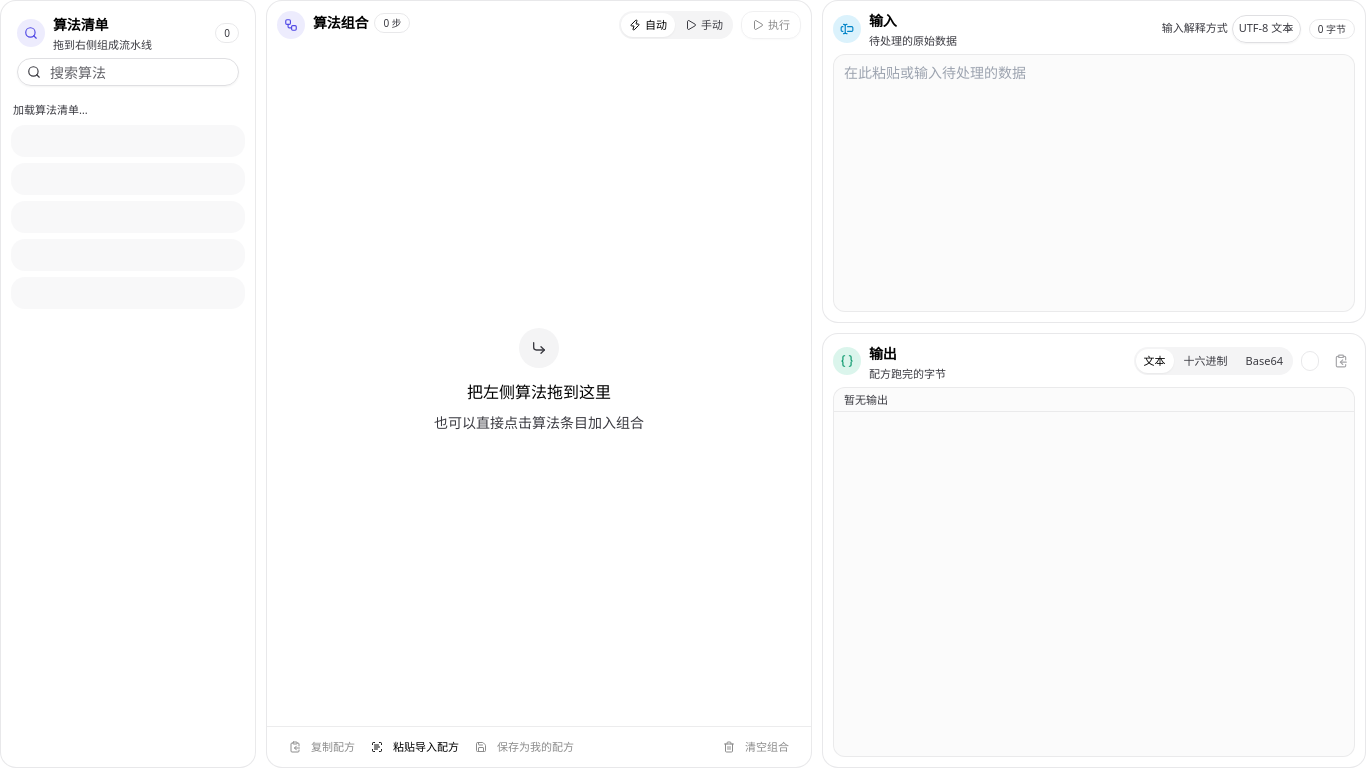
Test: 算法清单的语言适配 › 用中文关键词搜算法，也能用算法 id 搜
Expected: the element labelled "算法清单" is shown, [0, 0, 256, 767]
In the field named "算法清单搜索框": (128, 72) [17, 58, 239, 86], type "工作模式"
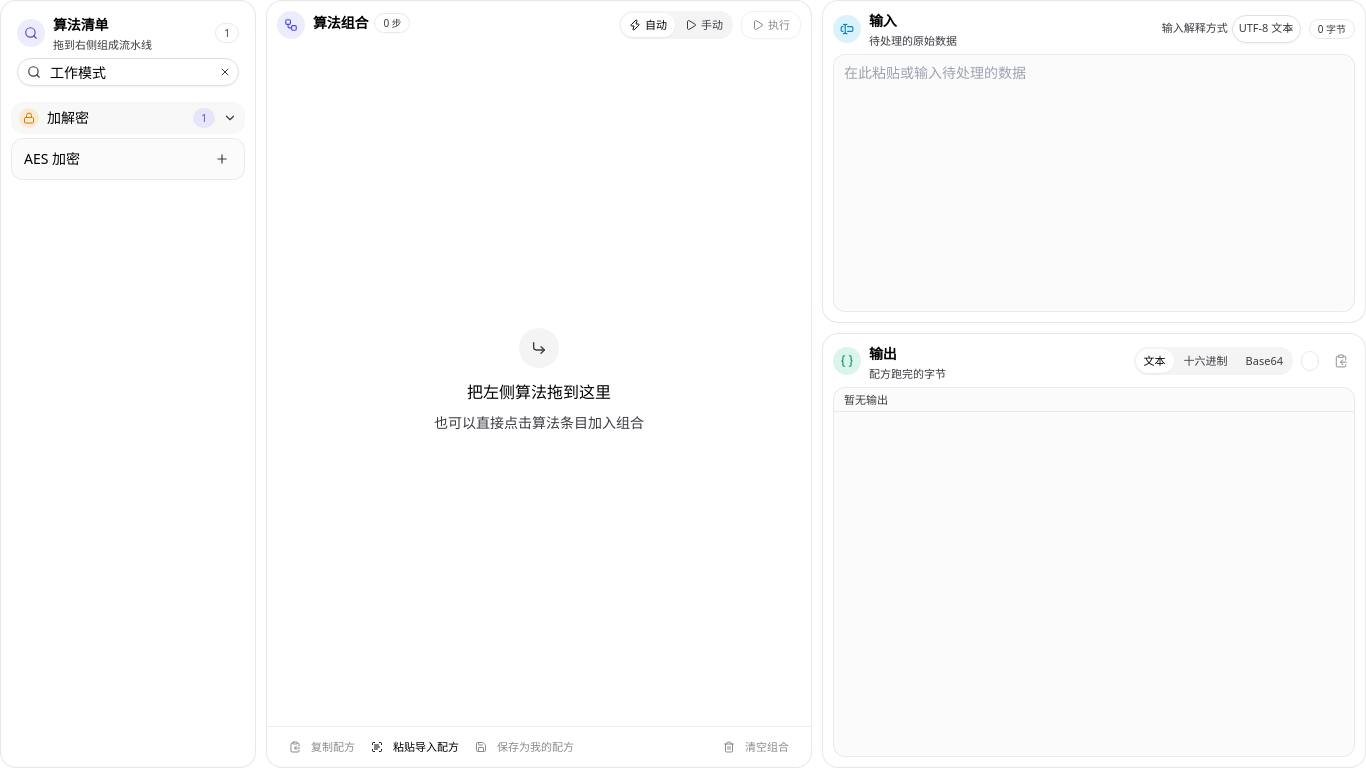
Expected: the text "AES 加密" is shown, [24, 149, 80, 168]
Replace the text in the field named "算法清单搜索框" with "base64encode": (128, 72) [17, 58, 239, 86]
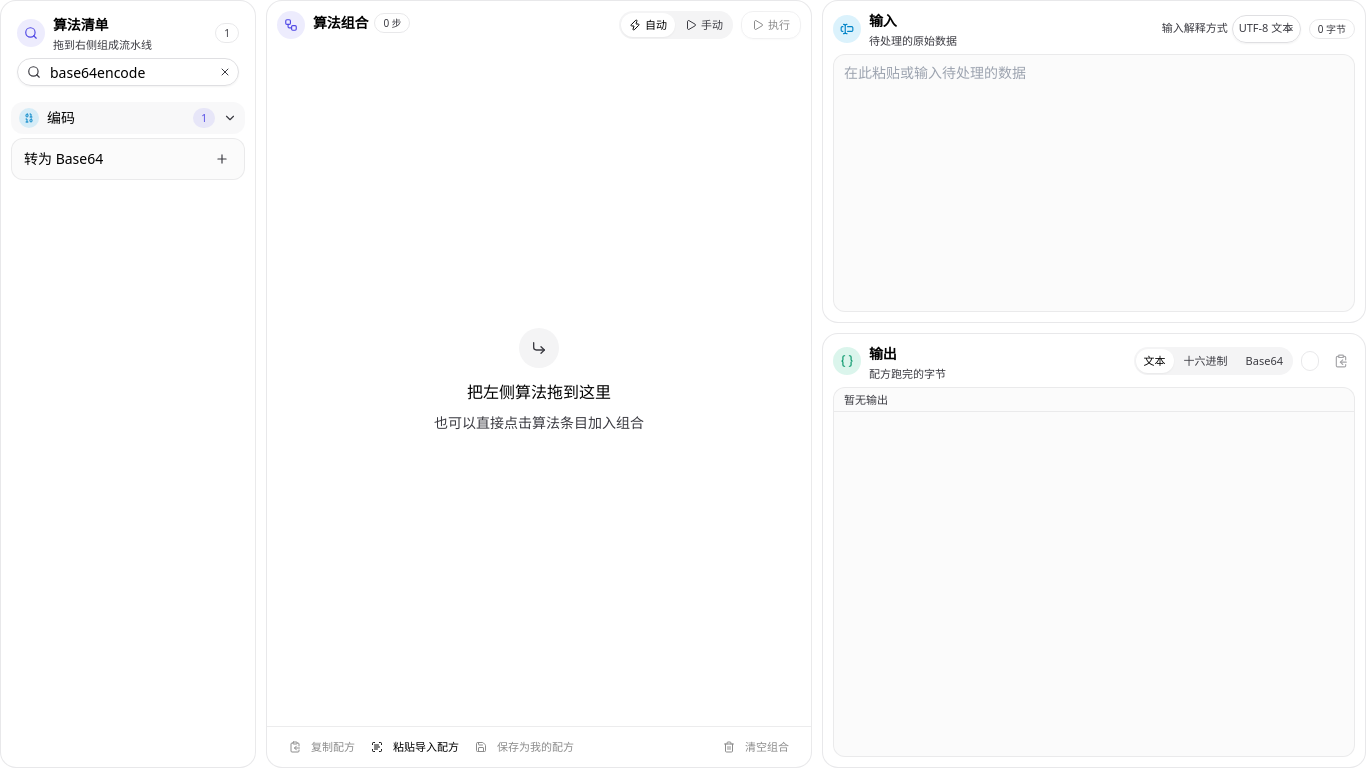
Expected: the text "转为 Base64" is shown, [24, 149, 103, 168]
Replace the text in the field named "算法清单搜索框" with "不存在的东西": (128, 72) [17, 58, 239, 86]
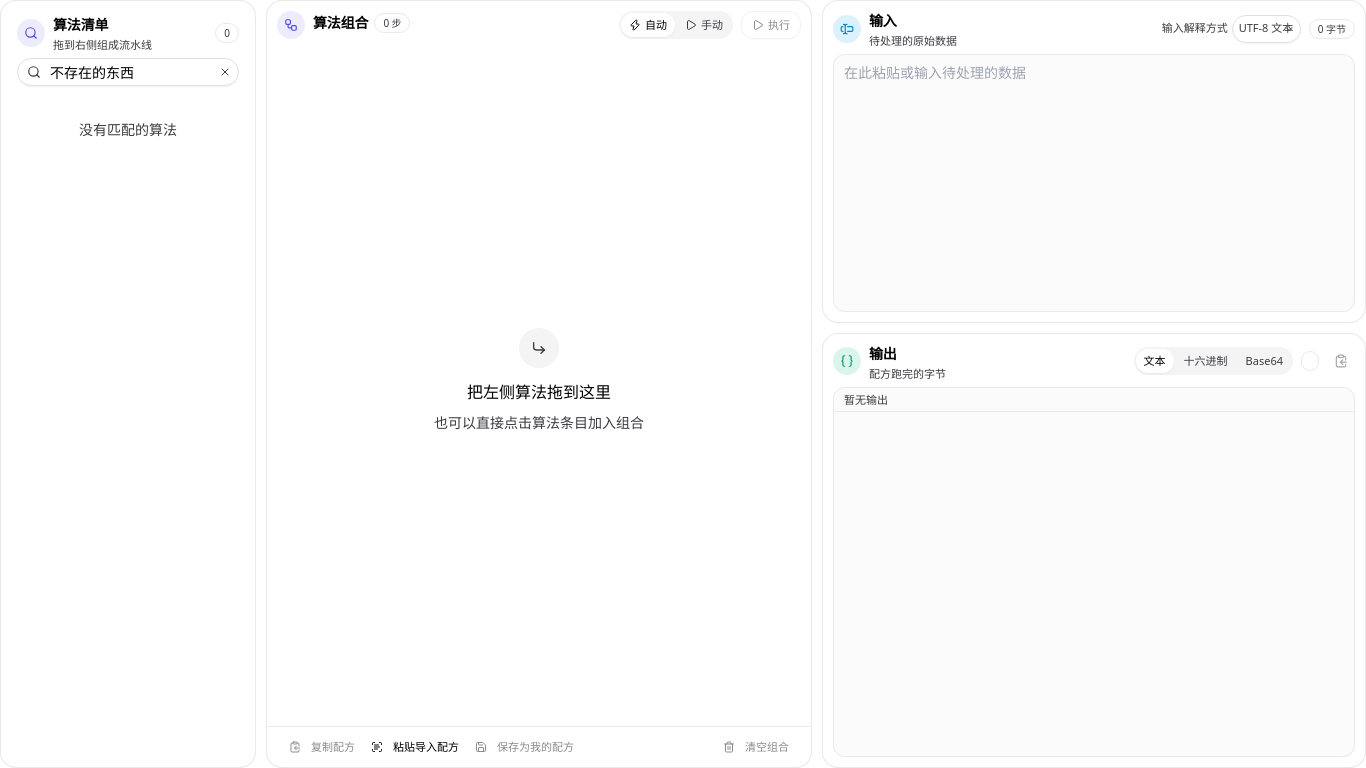
Expected: the text "没有匹配的算法" is shown, [79, 120, 177, 139]
